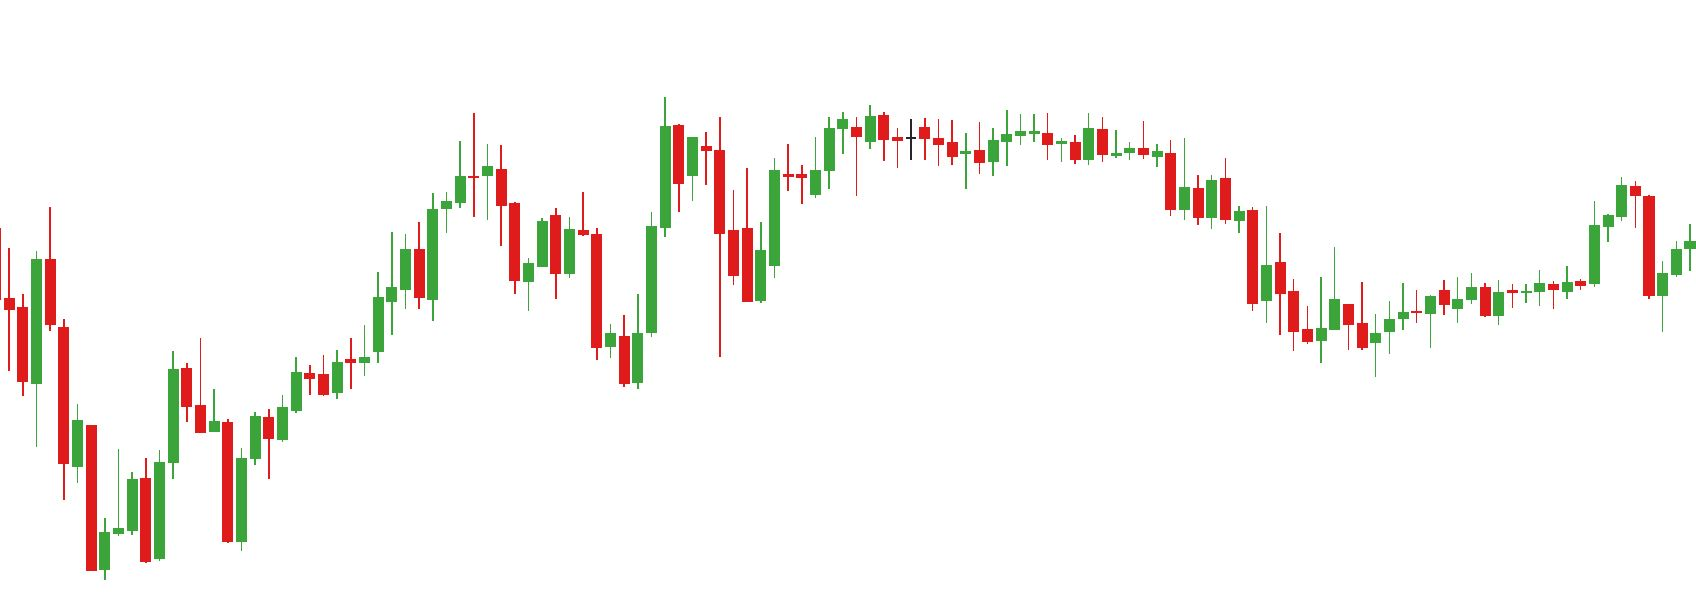sell: (467, 102, 687, 267)
